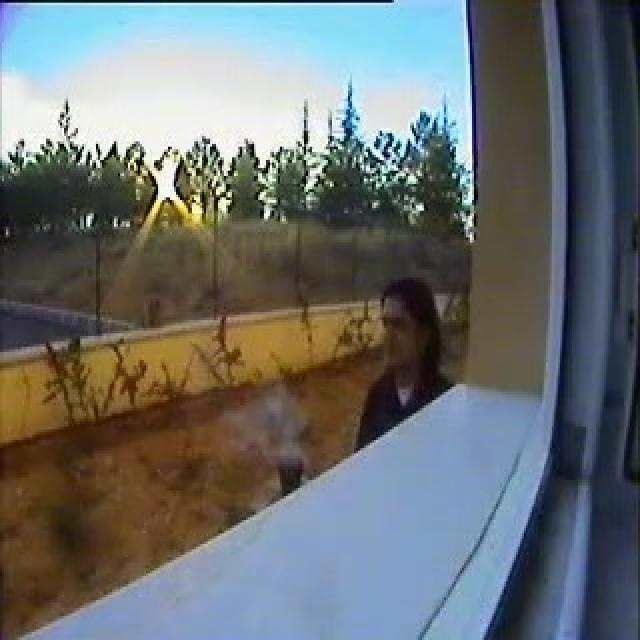smoke: (232, 389, 303, 458)
